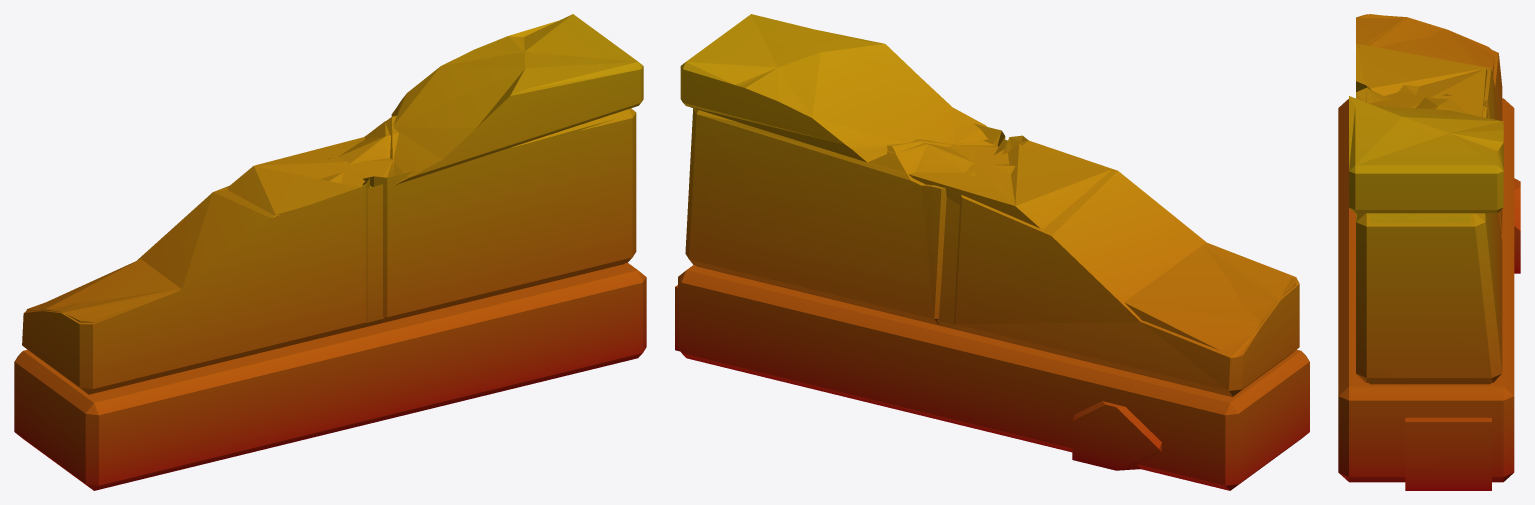
Rendered from wall_low_broken.glb.
The picture shows the model from 3 angles, left to right: view 1: azimuth 30°, elevation 25°; view 2: azimuth 150°, elevation 25°; view 3: azimuth 270°, elevation 25°; orthographic projection. The views are drawn at different scales.
Visible parts, largest first — view 1: wall_low_broken; view 2: wall_low_broken; view 3: wall_low_broken.
Part boxes in pixels (left/top/right/bottom): wall_low_broken: left=14, top=14, right=646, bottom=490; wall_low_broken: left=675, top=14, right=1309, bottom=490; wall_low_broken: left=1338, top=14, right=1520, bottom=490.
Size of what is drawn, in the model's own units: 2.03 by 1 by 0.5179.
